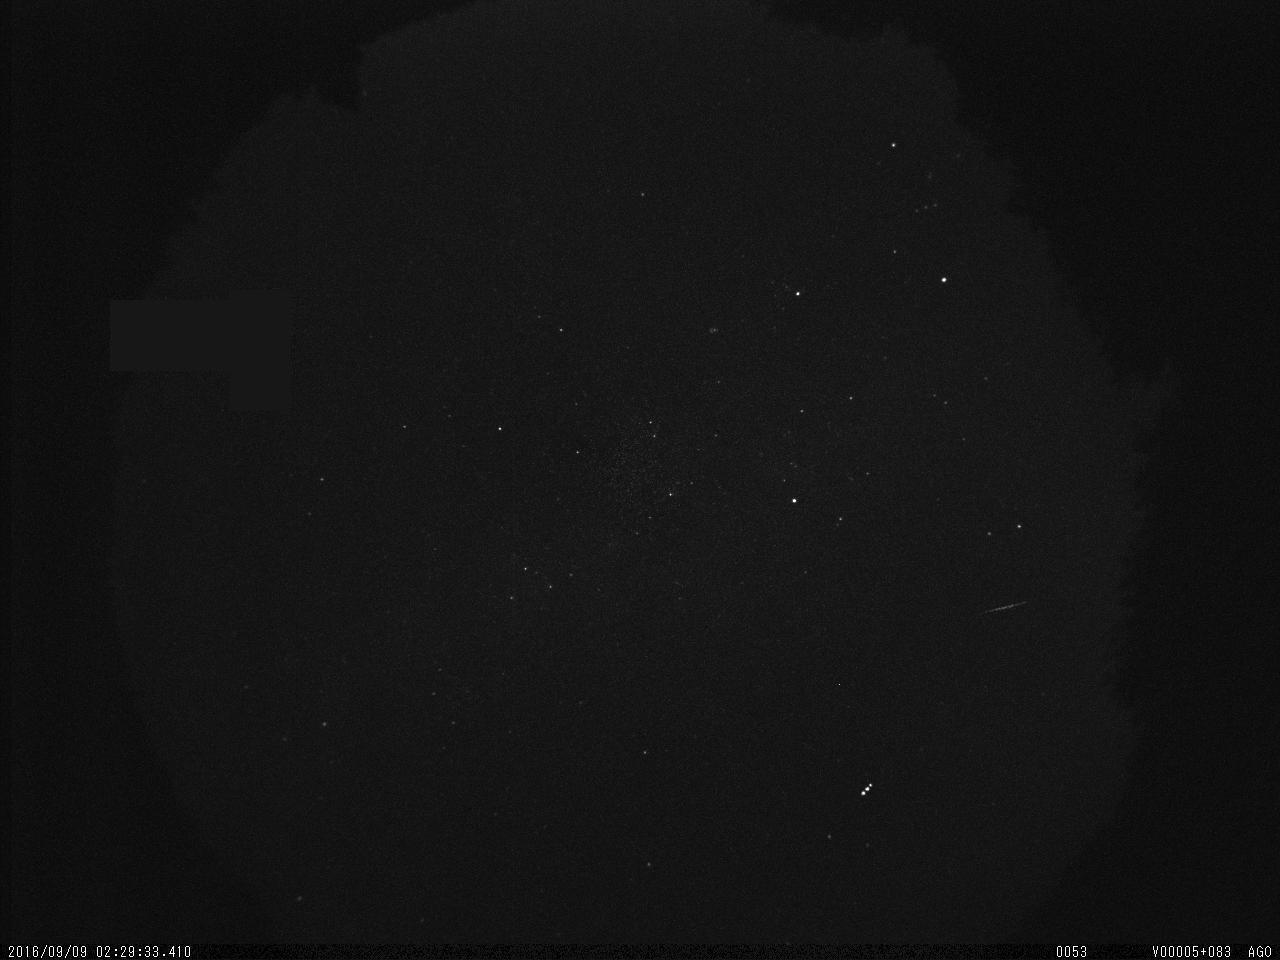meteor: (968, 590, 1036, 624)
